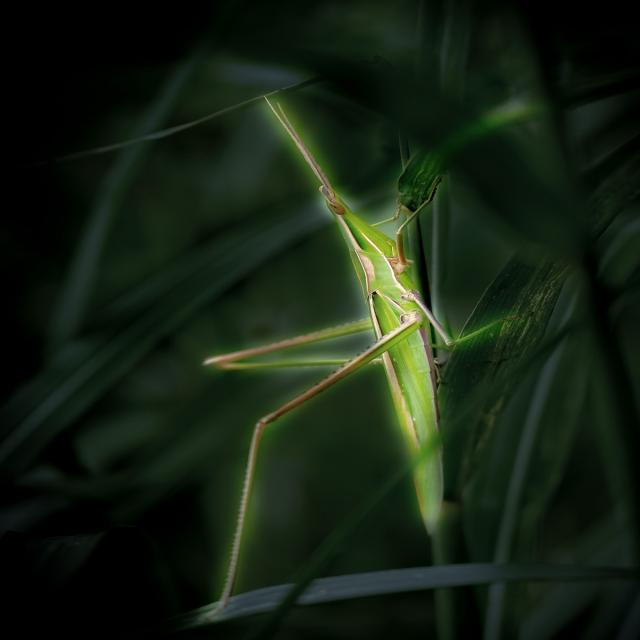ZhaMeng: (199, 84, 518, 591)
